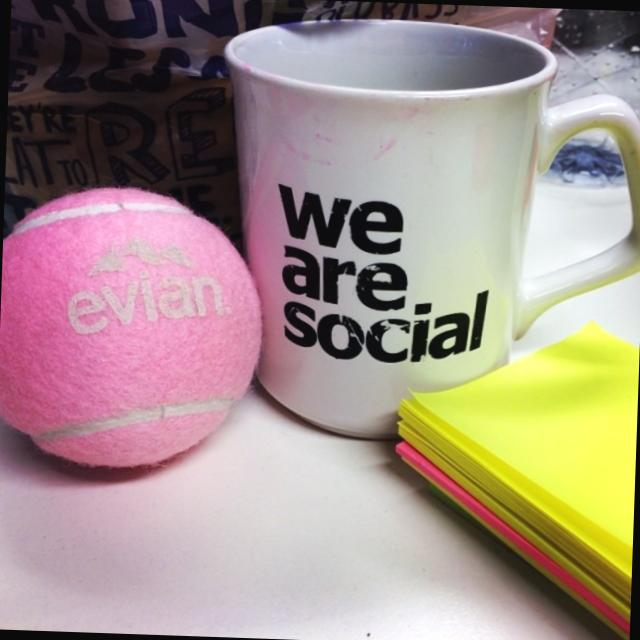Tennis Ball: (0, 181, 271, 472)
